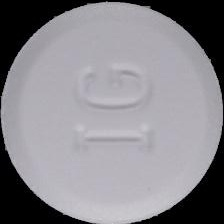68151-0995: (0, 0, 224, 224)
